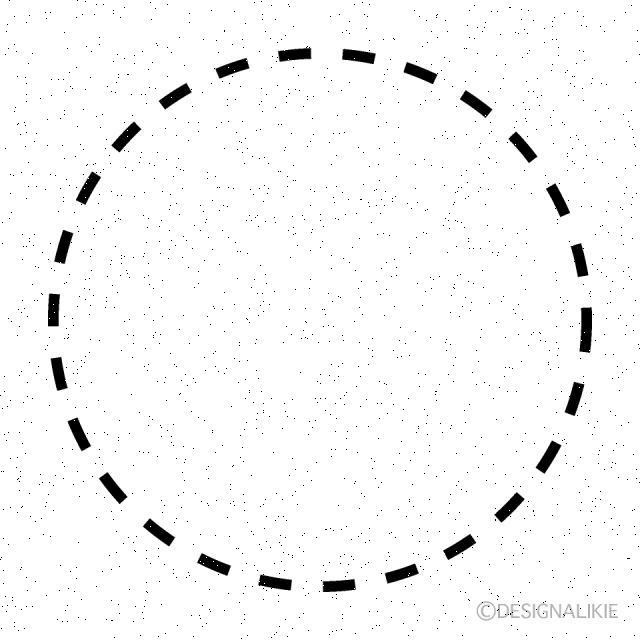Circle: (48, 46, 594, 596)
